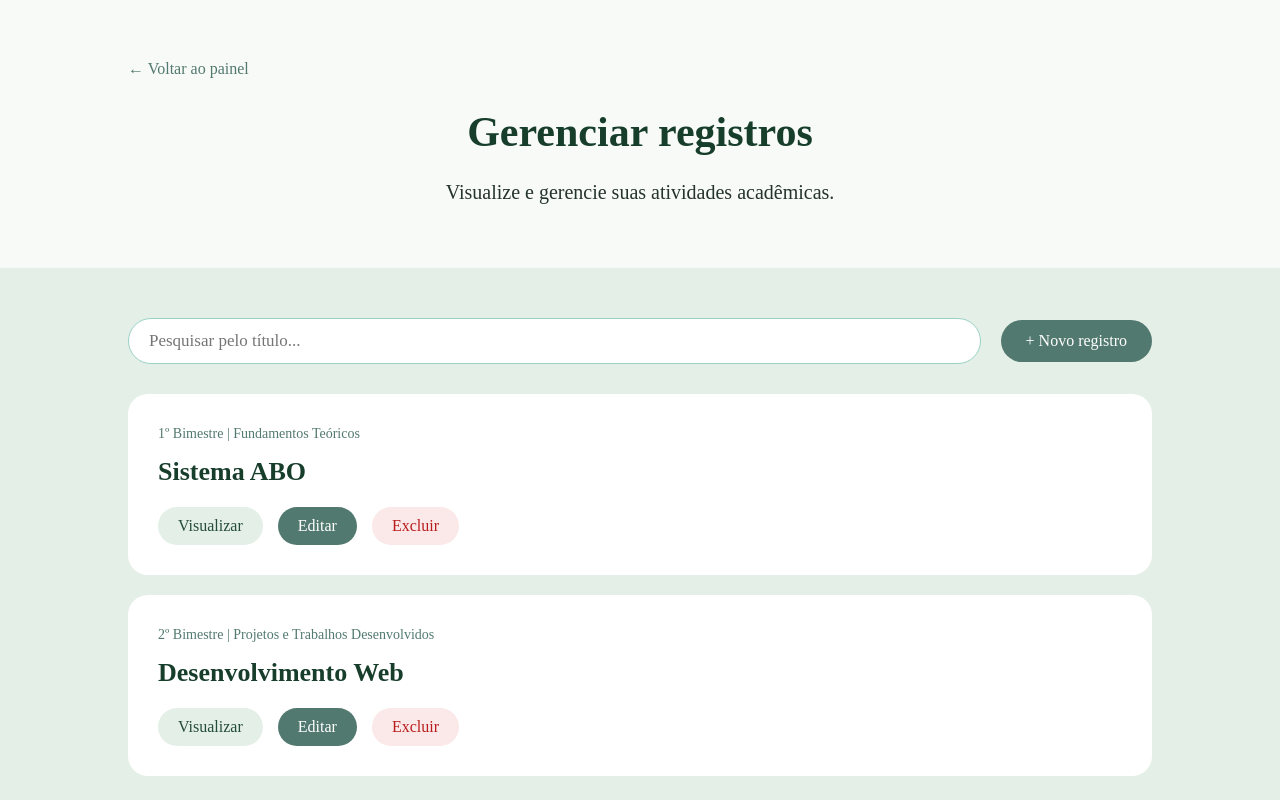
Página GerenciarRegistros › Deve excluir um registro com sucesso
The image size is (1280, 800).
Click the button "Excluir" below "Sistema ABO" at x=415, y=526, box [372,507,459,545]
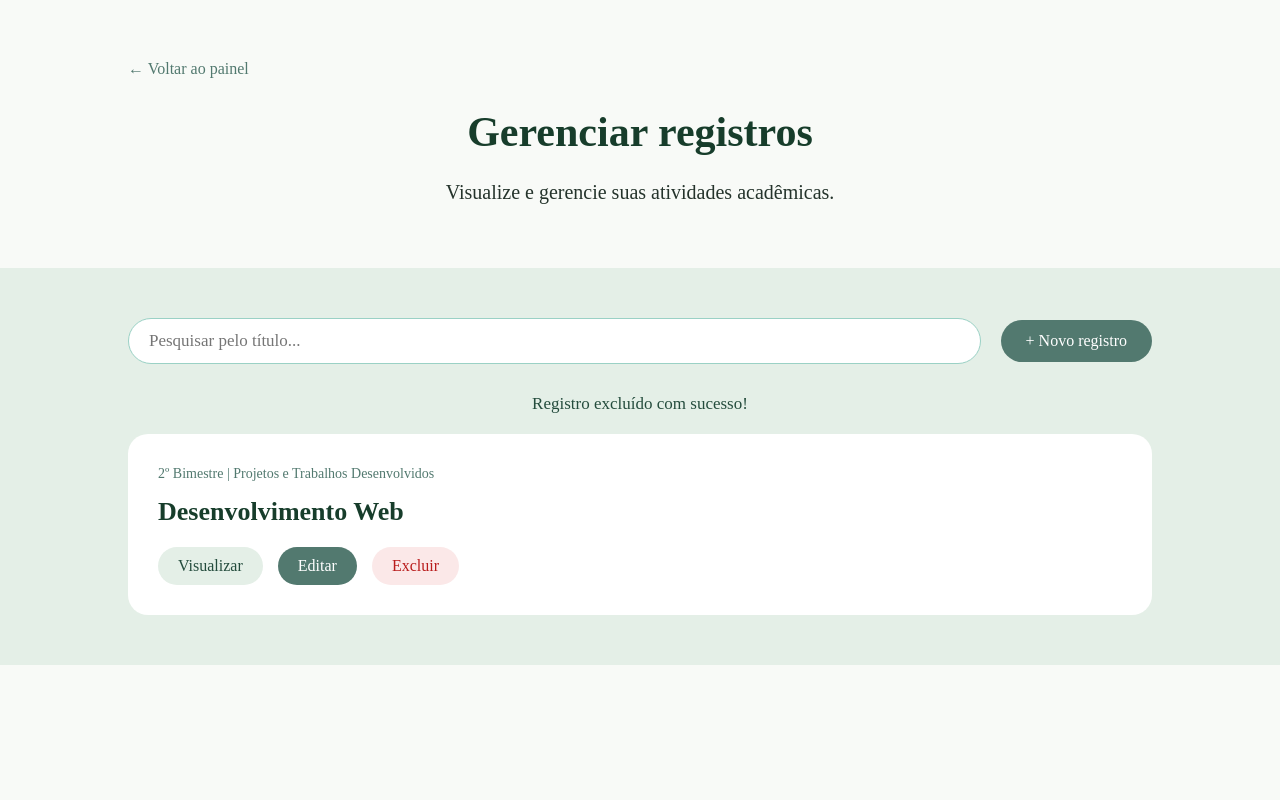
Check: the heading "Desenvolvimento Web" is shown, box [158,497,404,526]
Check: the message reads "Registro excluído com sucesso!", box [532,394,748,413]
Check: the heading "Sistema ABO" is gone
